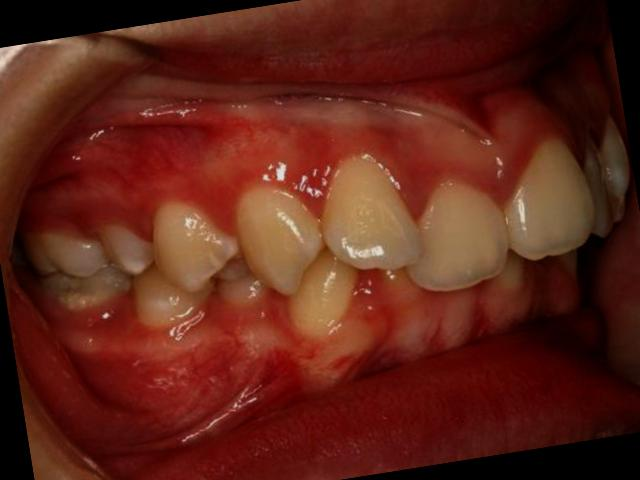canine class I: (198, 164, 369, 356)
molar class II 1/4: (19, 210, 135, 331)
